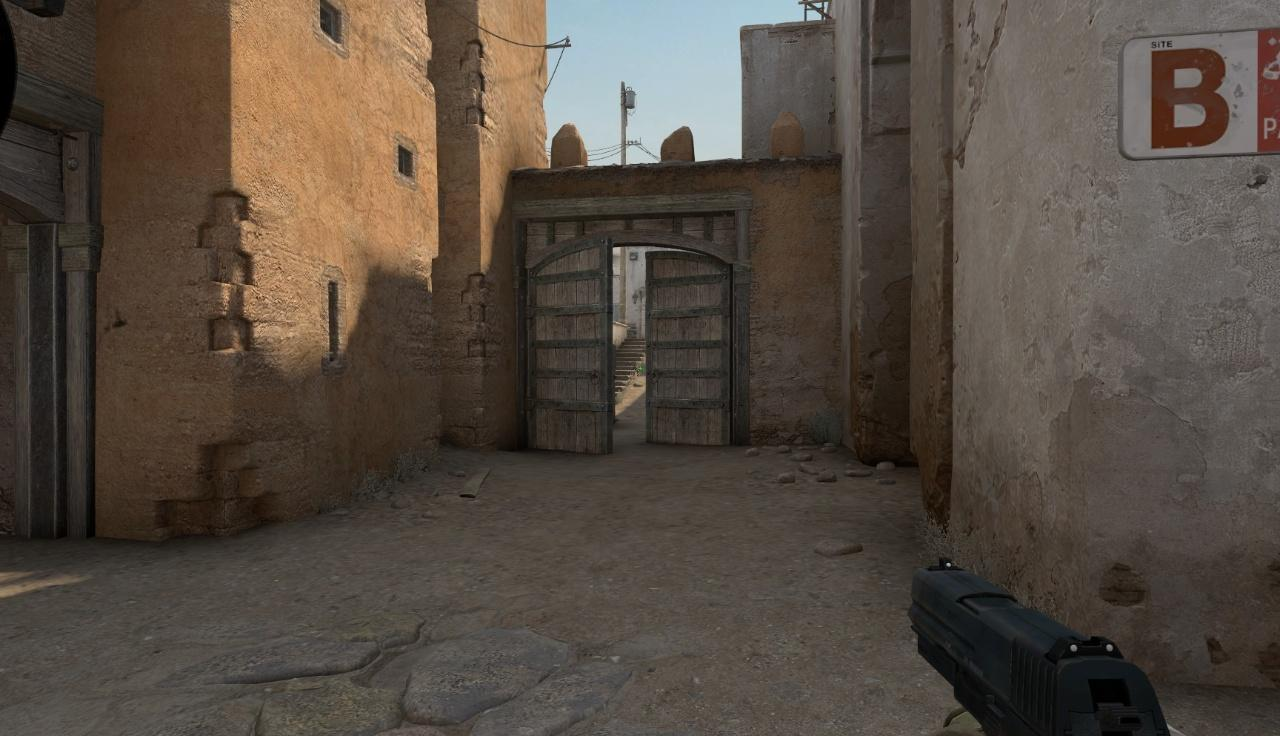pistol: (908, 559, 1209, 736)
